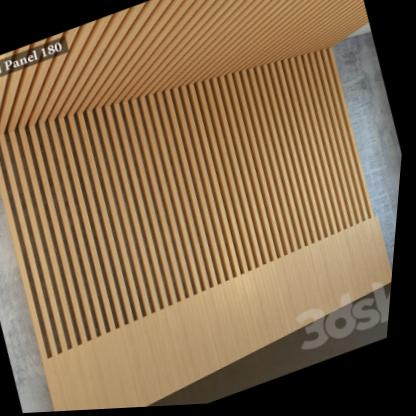Wall Panel: (0, 31, 413, 416)
